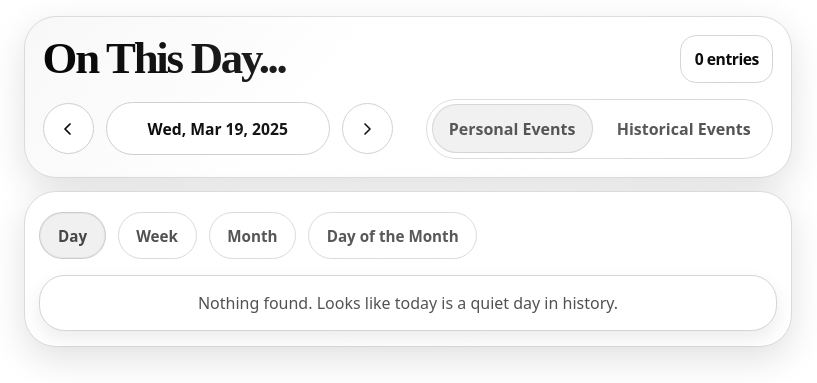
Scenario: pages/index.vue › clicking Previous Date changes the date subtitle backward
Click the button named "Previous Date" at (68, 129), box [43,103,94,154]
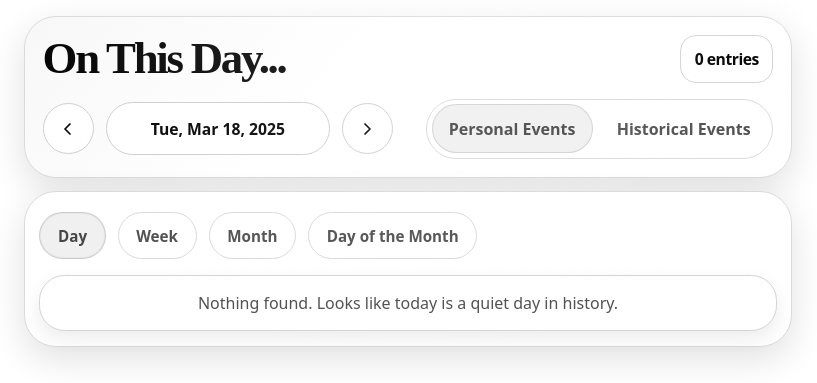
Result: the button with id "date-subtitle" shows "18" at [106,102,330,155]
